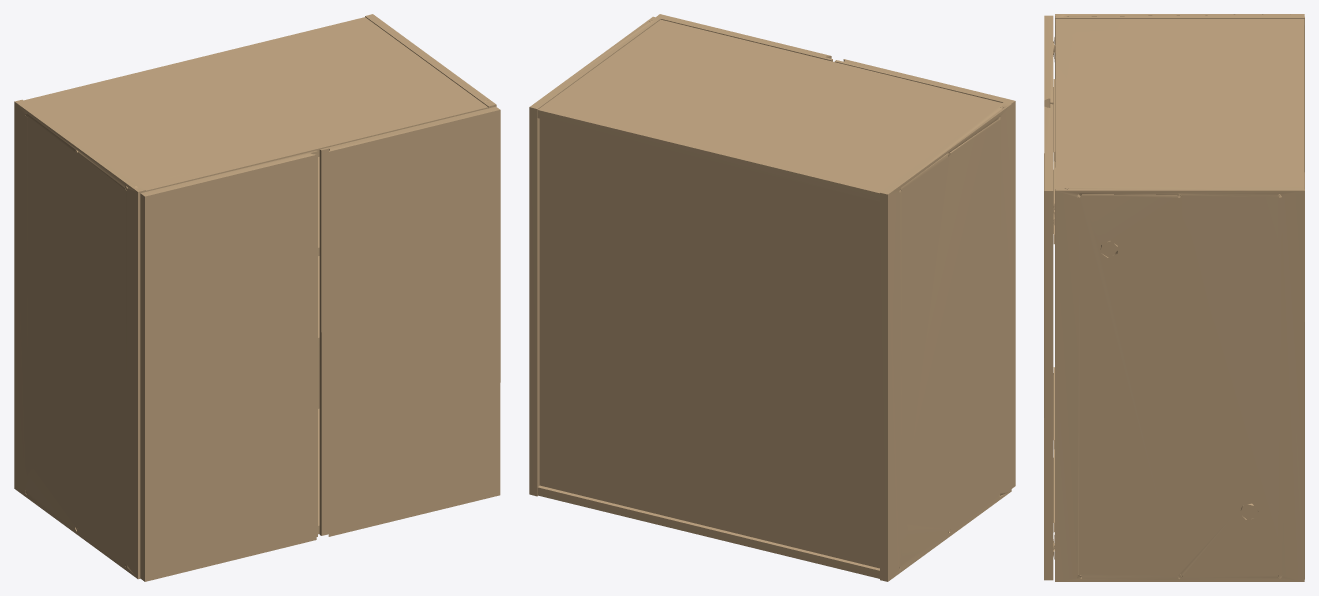
Rendered from town-ivar.glb.
3 views of the same model, side by side, from view 1: azimuth 30°, elevation 25°; view 2: azimuth 150°, elevation 25°; view 3: azimuth 270°, elevation 25° (orthographic).
Parts seen in each view (by area): view 1: 70033766-IVAR001; view 2: 70033766-IVAR001; view 3: 70033766-IVAR001.
Part boxes in pixels (x1,y1,x2,y2): 70033766-IVAR001: (14,14,500,581); 70033766-IVAR001: (529,14,1015,581); 70033766-IVAR001: (1044,14,1304,581).
Bounding box in the file's own units: 0.8 × 0.826 × 0.4987.
